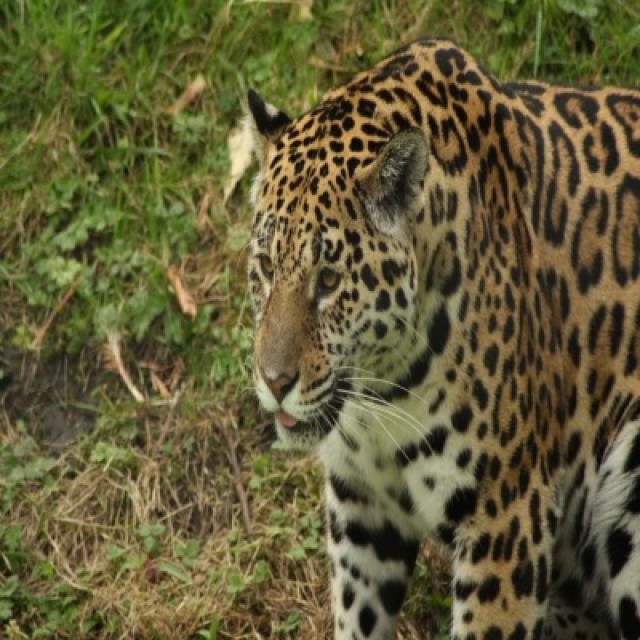Jaguar: (243, 38, 638, 638)
